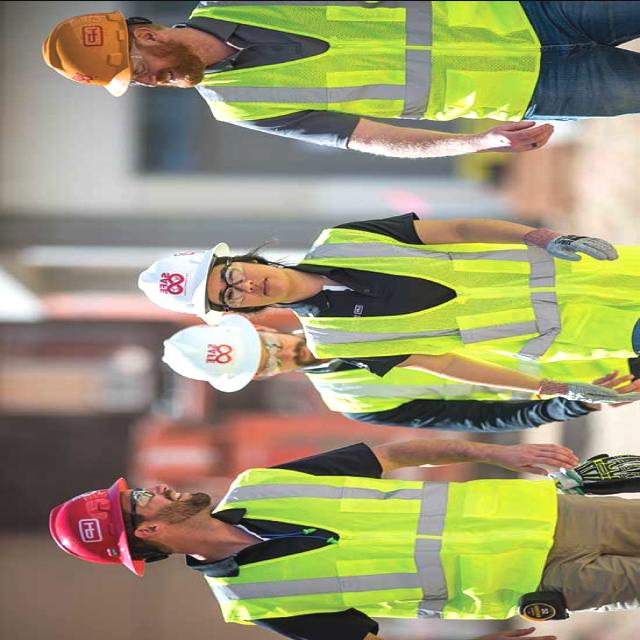Gloves: (533, 372, 640, 409), (545, 225, 623, 268)
Hard Hat: (44, 474, 154, 584), (34, 7, 136, 99), (131, 238, 239, 324), (154, 309, 267, 387)
Reflective Vest: (198, 469, 622, 632), (295, 218, 639, 362), (188, 0, 564, 126)
Safety Glasses: (125, 480, 159, 544), (253, 324, 286, 382), (220, 257, 250, 313), (128, 17, 150, 85)
